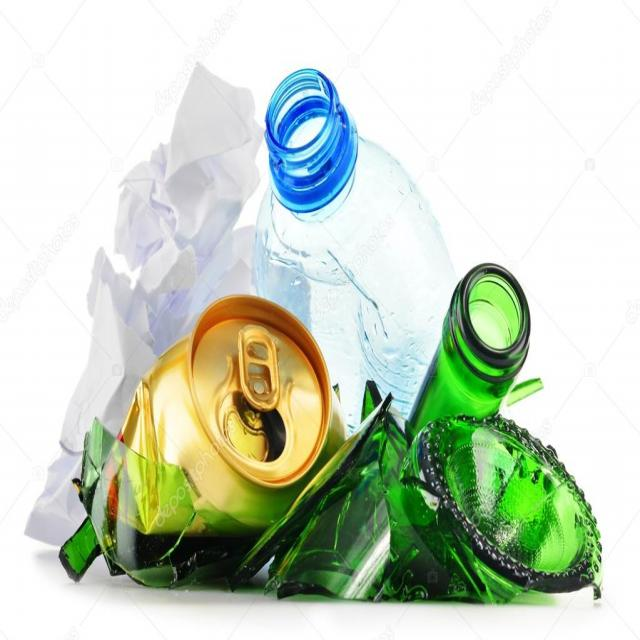metal: (154, 292, 326, 480)
paper: (101, 74, 253, 270)
plastic: (285, 76, 437, 310)
